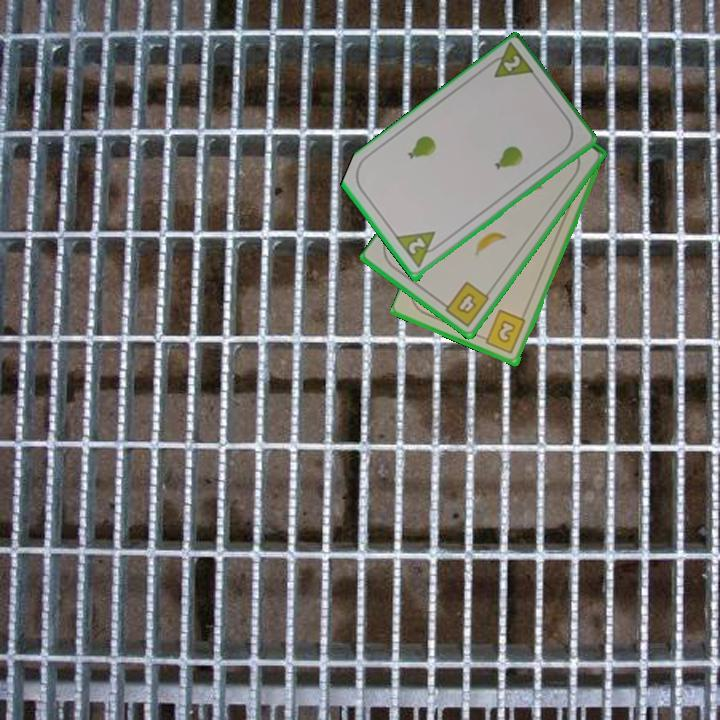2b: (477, 307, 529, 357)
2p: (482, 40, 538, 82), (393, 228, 446, 271)
4b: (437, 278, 492, 330)
